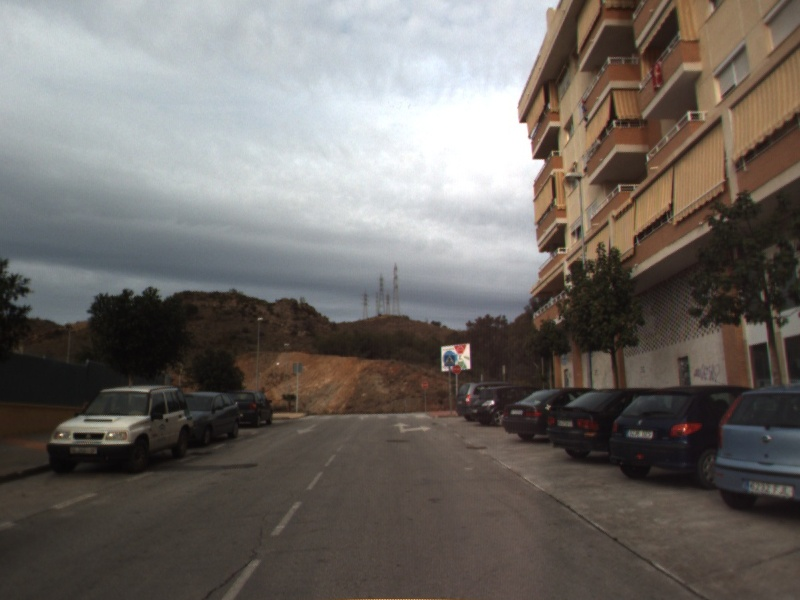STRAIGHT_RIGHT: (391, 420, 433, 435)
